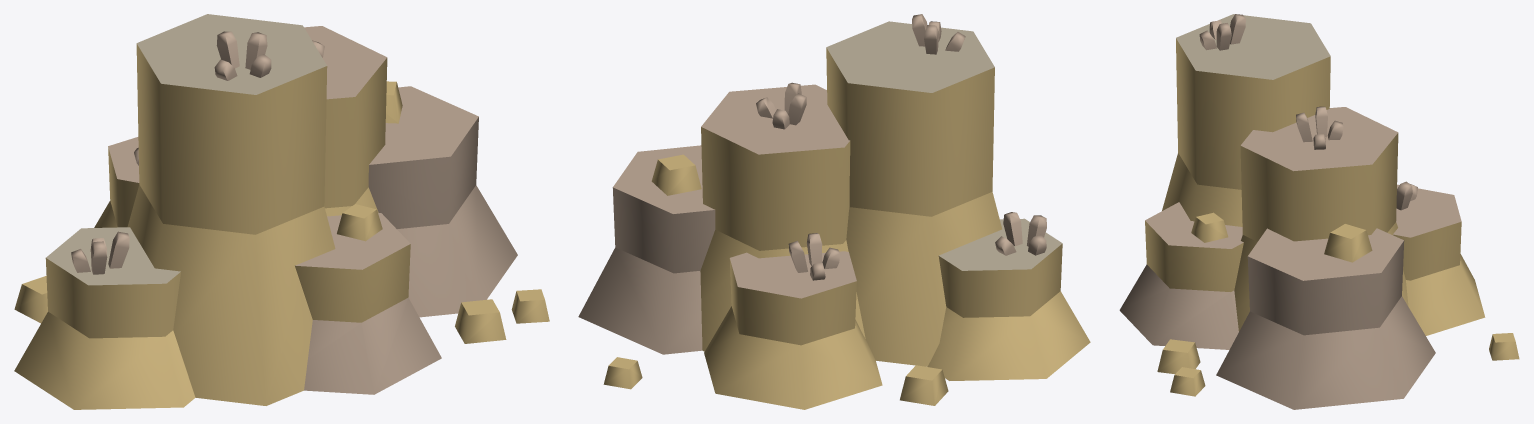
File: rock_0.glb
3 views of the same model, side by side, from view 1: azimuth 30°, elevation 25°; view 2: azimuth 150°, elevation 25°; view 3: azimuth 270°, elevation 25° (orthographic). The views are drawn at different scales.
Visible parts, largest first — view 1: rock_0; view 2: rock_0; view 3: rock_0.
Boxes of the visible parts, x1,y1,x2,y2 form: rock_0: (14,14,549,409); rock_0: (578,14,1090,409); rock_0: (1119,14,1519,409).
Bounding box in the file's own units: 2.55 × 1.6 × 2.19.
